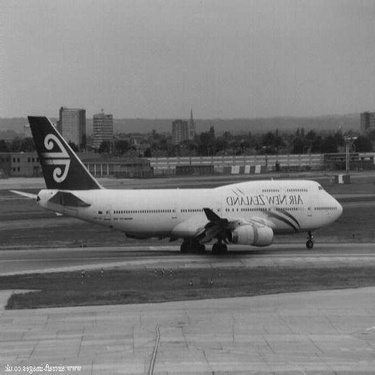airplane: (6, 94, 356, 263)
